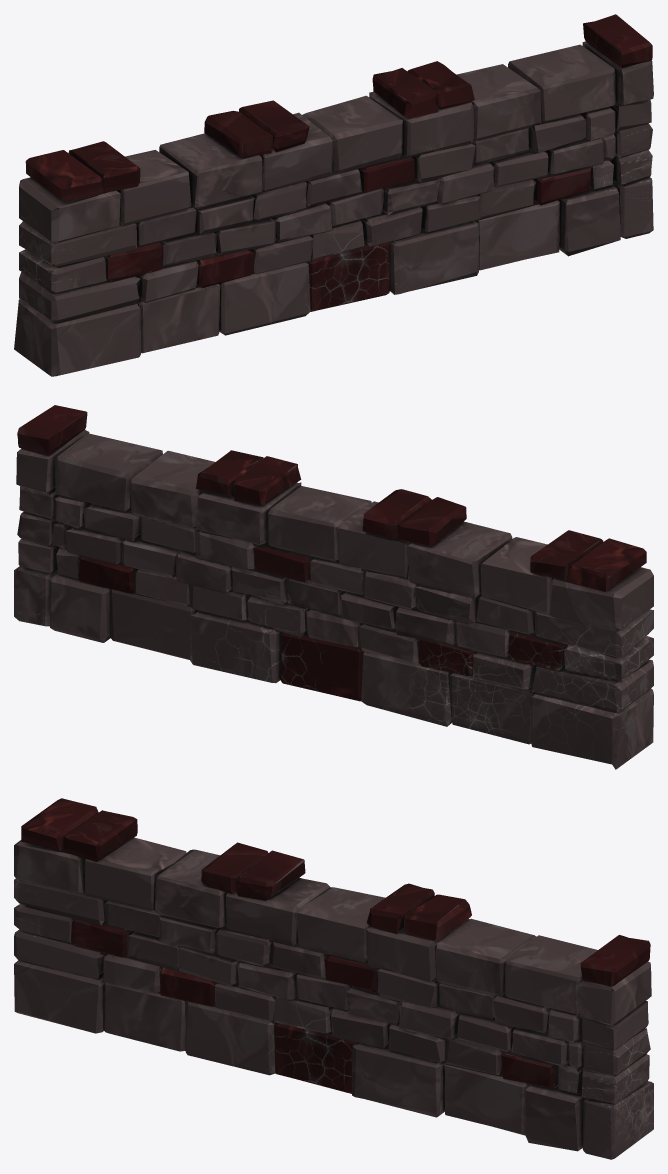
The model's file is wall_normal.fbx.
The picture shows the model from 3 angles, top to bottom: view 1: azimuth 30°, elevation 25°; view 2: azimuth 150°, elevation 25°; view 3: azimuth 330°, elevation 25°; orthographic projection.
Parts seen in each view (by area): view 1: wall alone normal; view 2: wall alone normal; view 3: wall alone normal.
Boxes of the visible parts, box(x1,y1,x2,y2) form: wall alone normal: box(14, 14, 653, 376); wall alone normal: box(14, 405, 653, 769); wall alone normal: box(14, 798, 653, 1159).
Bounding box in the file's own units: 1924 × 596 × 234.
1 material, 1 textured.
